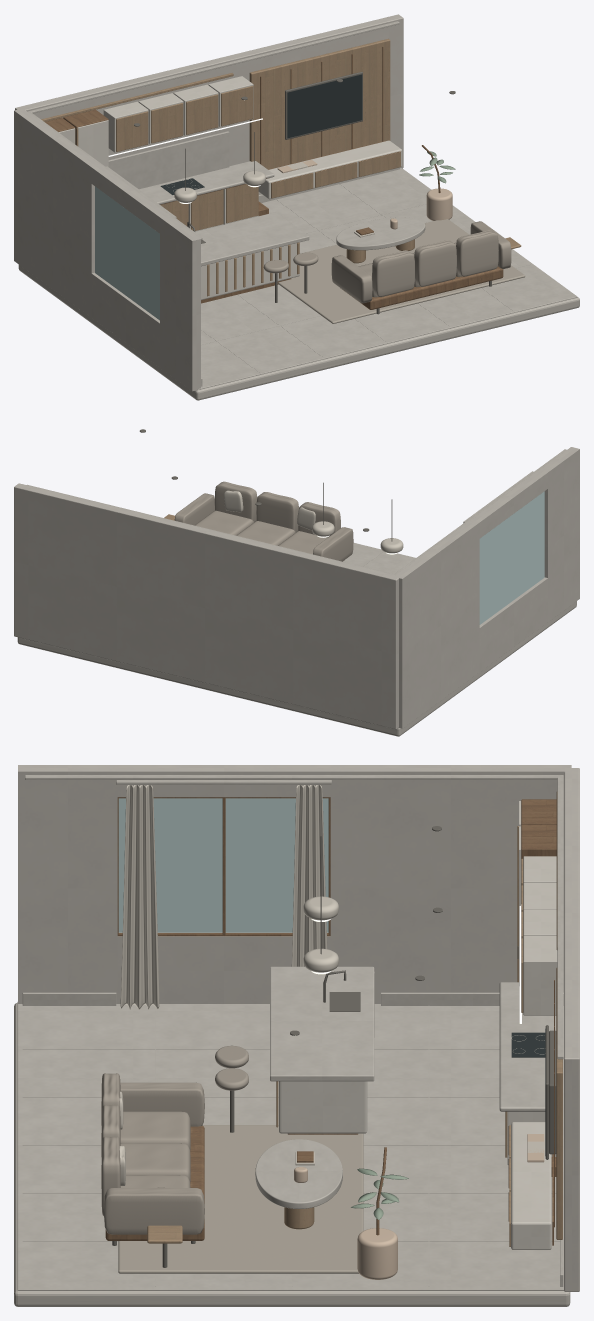
Rendered from production.glb.
3 renders of one model, top to bottom at view 1: azimuth 30°, elevation 25°; view 2: azimuth 150°, elevation 25°; view 3: azimuth 270°, elevation 25°, orthographic. The views are drawn at different scales.
Visible parts, largest first — view 1: ARCH_Limestone floor finish, ARCH_Left wall rear pier, JOINERY_TV oak backing panel, ARCH_Back wall, ARCH_Left wall front pier, ARCH_Window glazing, ARCH_Floor structural slab, SOFT_Rug under seating, JOINERY_Kitchen pale stone backsplash, DETAIL_TV screen, JOINERY_Island stone waterfall top, ARCH_Window sill wall (+31 smaller); view 2: ARCH_Back wall, ARCH_Left wall rear pier, ARCH_Window glazing, ARCH_Left wall front pier, ARCH_Floor structural slab, ARCH_Window sill wall, ARCH_Window head, FURN_Sofa upright back cushion 1.58, ARCH_Limestone floor finish, FURN_Sofa upright back cushion 2.43, FURN_Sofa rounded arm 0.17, FURN_Sofa plush seat 1.58 (+6 smaller); view 3: ARCH_Limestone floor finish, ARCH_Left wall rear pier, ARCH_Left wall front pier, SOFT_Rug under seating, ARCH_Window glazing, JOINERY_Island stone waterfall top, ARCH_Floor structural slab, ARCH_Window sill wall, ARCH_Back wall, SOFT_Left floor-length curtain, SOFT_Right floor-length curtain, JOINERY_Island core (+30 smaller).
Boxes of the visible parts, box(x1,y1,x2,y2) form: ARCH_Limestone floor finish: box(197, 168, 577, 389); ARCH_Left wall rear pier: box(14, 109, 99, 317); JOINERY_TV oak backing panel: box(249, 38, 390, 169); ARCH_Back wall: box(15, 14, 403, 194); ARCH_Left wall front pier: box(160, 215, 200, 391); ARCH_Window glazing: box(95, 186, 159, 320); ARCH_Floor structural slab: box(18, 265, 579, 400); SOFT_Rug under seating: box(278, 219, 525, 323); JOINERY_Kitchen pale stone backsplash: box(108, 131, 229, 189); DETAIL_TV screen: box(287, 74, 362, 138); JOINERY_Island stone waterfall top: box(195, 212, 309, 266); ARCH_Window sill wall: box(91, 272, 159, 367); ARCH_Back wall: box(14, 483, 398, 729); ARCH_Left wall rear pier: box(394, 520, 479, 728); ARCH_Window glazing: box(479, 491, 544, 624); ARCH_Left wall front pier: box(539, 447, 579, 621); ARCH_Floor structural slab: box(17, 601, 576, 736); ARCH_Window sill wall: box(479, 577, 547, 671); ARCH_Window head: box(471, 470, 547, 538); FURN_Sofa upright back cushion 1.58: box(256, 492, 298, 532); ARCH_Limestone floor finish: box(343, 543, 415, 573); FURN_Sofa upright back cushion 2.43: box(214, 481, 257, 522); FURN_Sofa rounded arm 0.17: box(313, 527, 353, 561); FURN_Sofa plush seat 1.58: box(236, 521, 295, 545); ARCH_Limestone floor finish: box(17, 1002, 563, 1290); ARCH_Left wall rear pier: box(330, 765, 571, 1003); ARCH_Left wall front pier: box(18, 765, 117, 1003); SOFT_Rug under seating: box(118, 1125, 363, 1273); ARCH_Window glazing: box(118, 798, 328, 932); JOINERY_Island stone waterfall top: box(270, 966, 374, 1081); ARCH_Floor structural slab: box(14, 1002, 570, 1306); ARCH_Window sill wall: box(117, 932, 330, 1003); ARCH_Back wall: box(564, 768, 579, 1291); SOFT_Left floor-length curtain: box(120, 785, 159, 1009); SOFT_Right floor-length curtain: box(291, 785, 327, 966); JOINERY_Island core: box(279, 1081, 367, 1133).
Size of the model in its own units: 7.87 by 3.12 by 6.41.
Materials: 18 (12 with a texture image).
